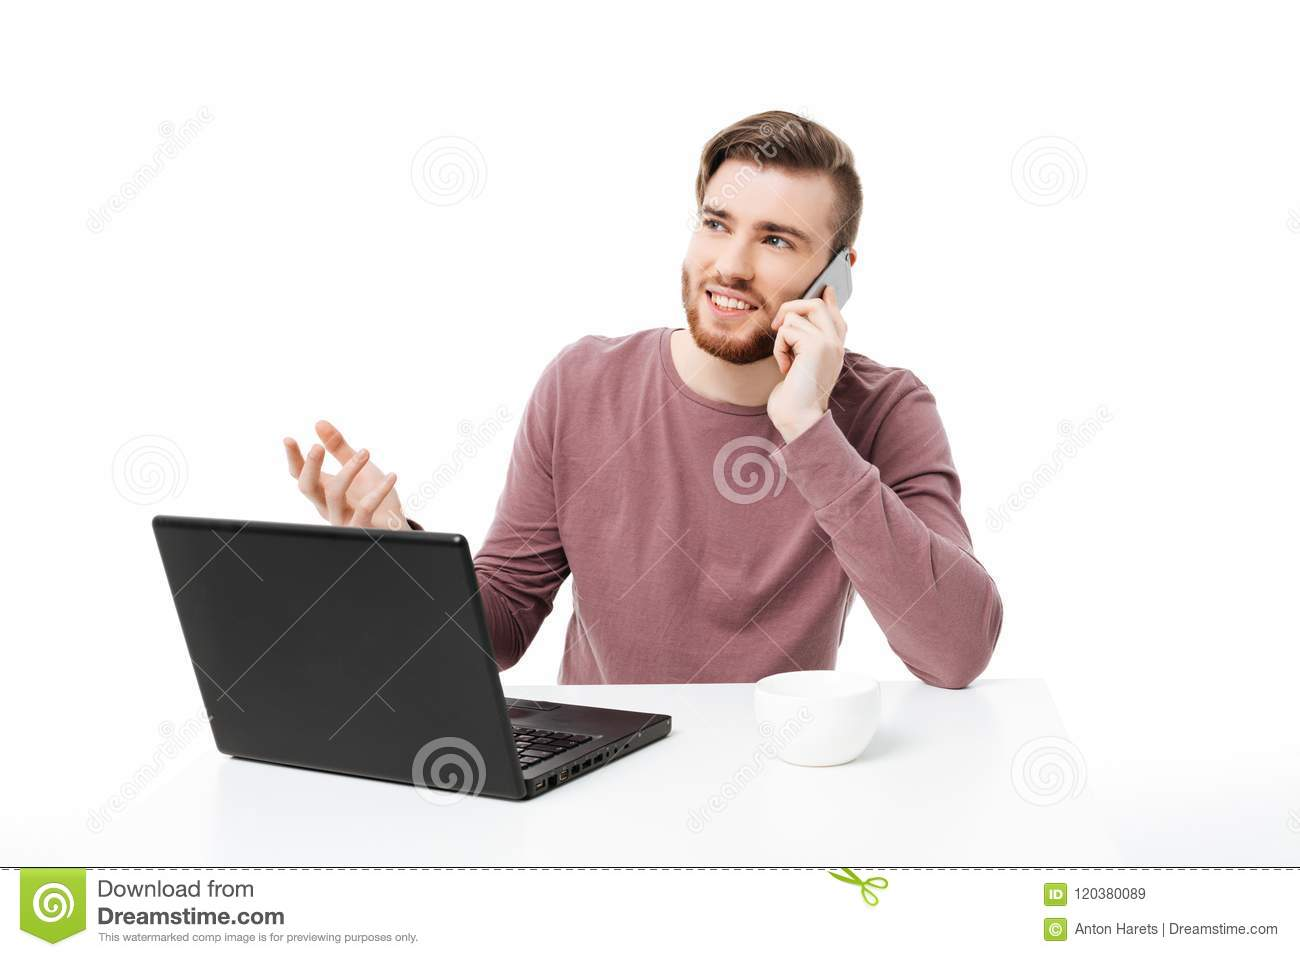phone: (782, 250, 856, 350)
talk: (682, 200, 858, 435)
